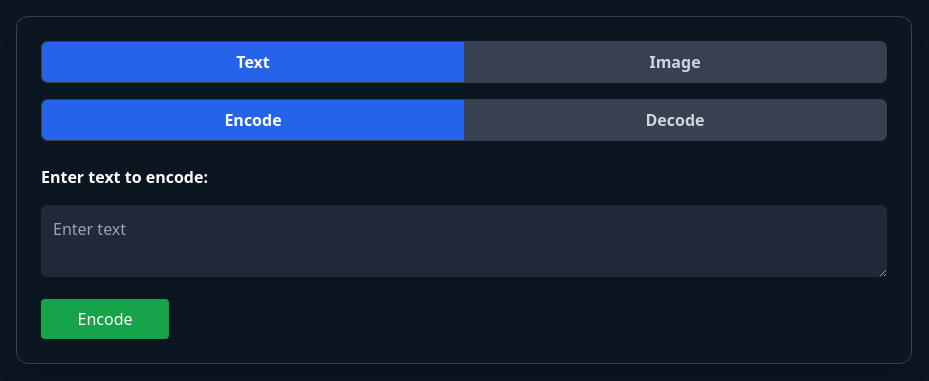
it: Base64EncoderDecoder component › switches between modes and actions
The image size is (929, 381).
# image encode mode
Click the button "Image". click: x=675, y=62
box: [464,42,886,82]
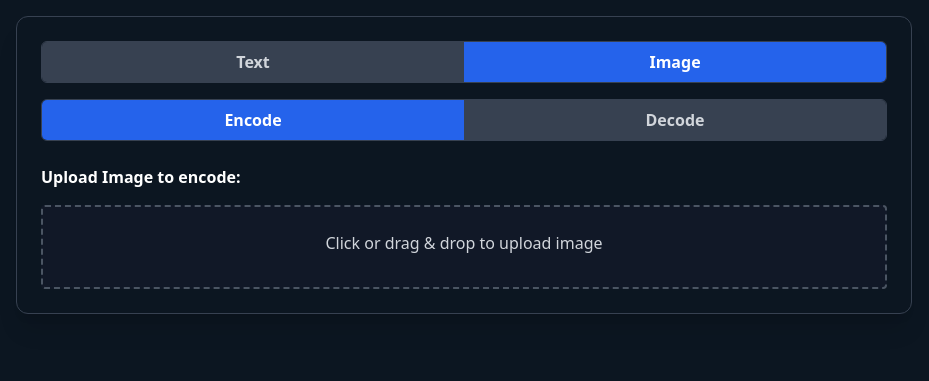
expect the text "Upload Image to encode:" is shown: met, box [41,166,241,188]
# image decode mode
Click the button "Decode". click: x=675, y=120
box: [464,100,886,140]
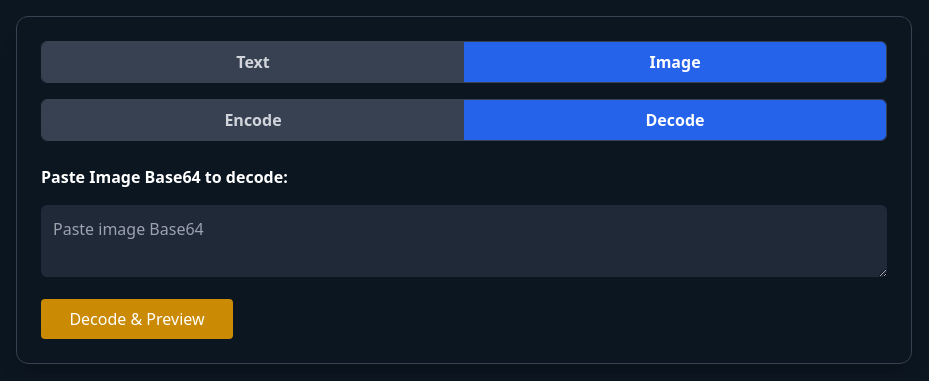
expect the text "Paste Image Base64 to decode:" is shown: met, box [41,166,288,188]
